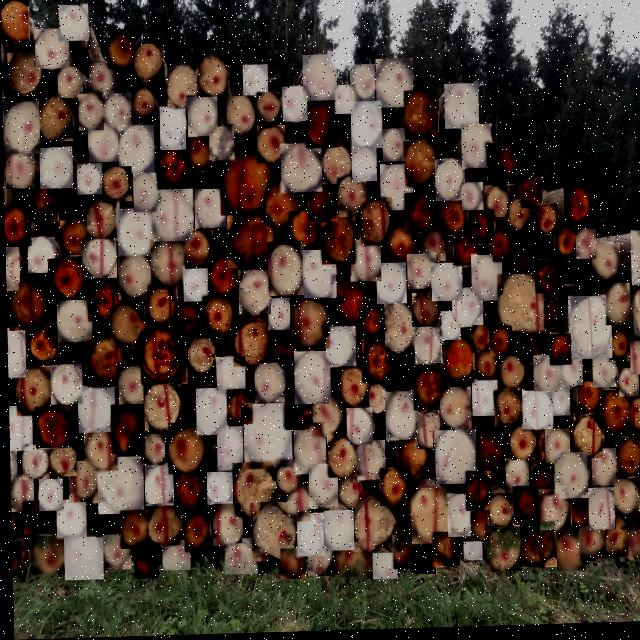wood-log: (220, 150, 269, 216), (242, 405, 289, 468), (497, 277, 545, 337), (567, 300, 610, 363), (226, 217, 277, 270), (140, 324, 184, 384), (96, 457, 142, 514), (250, 505, 294, 562), (434, 433, 475, 487), (409, 491, 449, 546), (352, 501, 393, 554), (232, 465, 272, 518), (280, 145, 321, 194), (152, 191, 191, 242), (7, 282, 47, 330), (293, 353, 329, 406), (233, 317, 271, 367), (167, 424, 204, 475), (3, 102, 39, 154), (117, 209, 154, 259), (291, 301, 328, 351), (376, 61, 413, 110), (85, 340, 123, 387), (267, 247, 302, 298), (118, 126, 154, 174), (76, 387, 113, 433), (143, 384, 179, 431), (62, 537, 101, 580), (150, 241, 187, 286), (321, 216, 354, 266), (15, 368, 49, 415), (265, 183, 299, 230), (303, 56, 337, 103), (47, 259, 84, 301), (332, 279, 365, 326), (404, 144, 439, 188), (110, 406, 142, 454), (384, 394, 416, 442), (303, 252, 335, 300), (444, 86, 478, 131), (518, 526, 553, 569), (292, 429, 324, 476), (383, 306, 415, 353), (33, 408, 70, 448), (39, 96, 71, 142), (306, 104, 338, 150), (380, 167, 412, 213), (553, 456, 585, 502), (7, 53, 42, 95), (86, 279, 120, 322), (405, 94, 436, 141), (485, 531, 518, 575), (56, 301, 91, 342), (360, 201, 391, 247), (470, 258, 501, 304), (237, 271, 270, 314), (351, 104, 381, 151), (195, 390, 226, 435), (117, 258, 151, 299), (143, 464, 175, 507), (80, 240, 116, 278), (109, 307, 143, 347), (35, 29, 69, 69), (39, 148, 72, 189), (474, 429, 504, 474), (173, 474, 205, 516), (438, 390, 469, 433), (198, 55, 228, 99), (487, 147, 520, 187), (202, 298, 234, 339), (412, 370, 443, 412), (28, 536, 62, 574), (168, 66, 198, 109), (602, 518, 632, 561), (600, 395, 630, 438), (83, 431, 115, 471), (157, 150, 189, 190), (450, 290, 482, 330), (26, 181, 57, 222), (361, 344, 392, 385), (434, 162, 464, 204), (307, 466, 336, 509), (49, 365, 80, 405), (147, 506, 178, 546), (86, 202, 117, 242), (207, 257, 237, 298), (375, 265, 405, 306), (350, 243, 380, 284), (331, 544, 367, 578), (308, 182, 337, 224), (461, 128, 490, 170), (444, 342, 472, 385), (67, 462, 97, 502), (337, 368, 367, 408), (311, 397, 340, 438), (326, 438, 355, 479), (87, 125, 118, 163), (430, 266, 461, 304), (210, 506, 240, 545), (322, 513, 352, 552), (1, 0, 28, 43), (295, 515, 322, 558), (573, 419, 600, 462), (322, 146, 351, 186), (397, 440, 425, 481), (338, 178, 366, 219), (194, 191, 225, 228), (253, 366, 284, 403), (404, 196, 435, 233), (54, 500, 84, 538), (117, 367, 147, 405), (521, 394, 551, 432), (222, 540, 254, 575), (325, 328, 353, 368), (538, 493, 566, 533), (509, 237, 537, 277), (26, 326, 56, 363), (187, 99, 217, 136), (289, 214, 319, 251), (564, 187, 591, 228), (215, 428, 240, 472), (226, 98, 254, 137), (59, 5, 89, 41), (5, 152, 34, 189), (215, 358, 244, 395), (118, 511, 146, 549), (354, 443, 382, 481), (59, 221, 89, 256), (543, 432, 568, 474), (134, 45, 163, 81), (414, 415, 443, 451), (4, 207, 30, 247), (186, 338, 214, 375), (160, 108, 184, 151), (446, 497, 470, 540), (184, 232, 211, 270), (133, 174, 160, 212), (555, 536, 582, 574), (109, 30, 135, 69), (8, 407, 31, 451), (103, 94, 131, 130), (257, 128, 285, 164), (587, 491, 611, 533), (605, 287, 629, 329), (591, 247, 619, 283), (148, 287, 175, 324), (493, 393, 520, 430), (464, 474, 489, 513), (27, 237, 54, 273), (532, 359, 559, 395), (406, 257, 434, 291), (615, 442, 640, 480), (20, 444, 47, 479), (89, 64, 115, 100), (387, 229, 413, 265), (379, 471, 404, 508), (345, 410, 370, 447), (183, 515, 207, 553), (414, 330, 440, 365), (511, 492, 537, 527), (440, 202, 466, 237), (497, 358, 523, 393), (6, 328, 24, 378), (78, 95, 103, 131), (350, 67, 375, 103), (47, 444, 74, 477), (101, 536, 128, 569), (471, 382, 495, 419), (182, 268, 208, 302), (269, 335, 295, 369), (21, 502, 48, 534), (9, 475, 32, 512), (226, 391, 250, 426), (590, 453, 614, 488), (103, 168, 129, 200), (411, 297, 437, 329), (431, 536, 457, 568), (282, 89, 307, 122), (160, 542, 188, 571), (352, 149, 375, 184), (509, 428, 532, 463), (613, 483, 636, 518), (205, 473, 230, 505), (209, 129, 234, 161), (132, 546, 156, 579), (174, 304, 198, 337), (243, 66, 267, 99), (187, 139, 211, 172), (275, 462, 299, 495), (93, 508, 120, 537), (285, 489, 308, 523), (468, 213, 491, 247), (484, 190, 509, 221), (37, 479, 61, 511), (58, 67, 82, 99), (267, 300, 291, 332), (391, 538, 414, 571), (284, 398, 307, 431), (534, 264, 557, 297), (452, 237, 477, 267), (382, 132, 405, 164), (504, 462, 527, 494), (139, 435, 163, 465), (77, 164, 100, 195), (131, 89, 154, 120), (279, 550, 302, 581), (359, 311, 382, 342), (591, 359, 613, 391), (580, 530, 601, 563), (468, 515, 491, 544), (519, 337, 542, 366), (576, 386, 598, 416), (489, 498, 510, 529), (574, 232, 595, 263), (370, 555, 395, 581), (557, 260, 580, 287), (549, 337, 569, 368), (257, 94, 279, 122), (422, 234, 444, 262), (476, 355, 498, 383), (489, 330, 510, 359), (532, 468, 551, 499), (507, 204, 528, 232), (554, 232, 575, 260), (492, 235, 512, 264), (305, 553, 330, 576), (521, 180, 540, 210), (559, 362, 580, 389), (461, 185, 481, 213), (617, 372, 637, 400), (409, 553, 433, 576), (440, 314, 459, 343), (433, 136, 453, 163), (548, 391, 567, 419), (537, 208, 556, 236), (630, 235, 640, 288), (5, 247, 17, 291), (336, 87, 354, 116), (608, 336, 627, 363), (569, 502, 587, 529), (471, 328, 489, 354), (627, 401, 640, 435), (543, 305, 560, 331), (626, 534, 640, 562), (629, 345, 640, 378), (632, 293, 640, 338), (461, 545, 479, 562), (10, 543, 19, 575), (8, 452, 15, 479), (9, 509, 16, 535)
